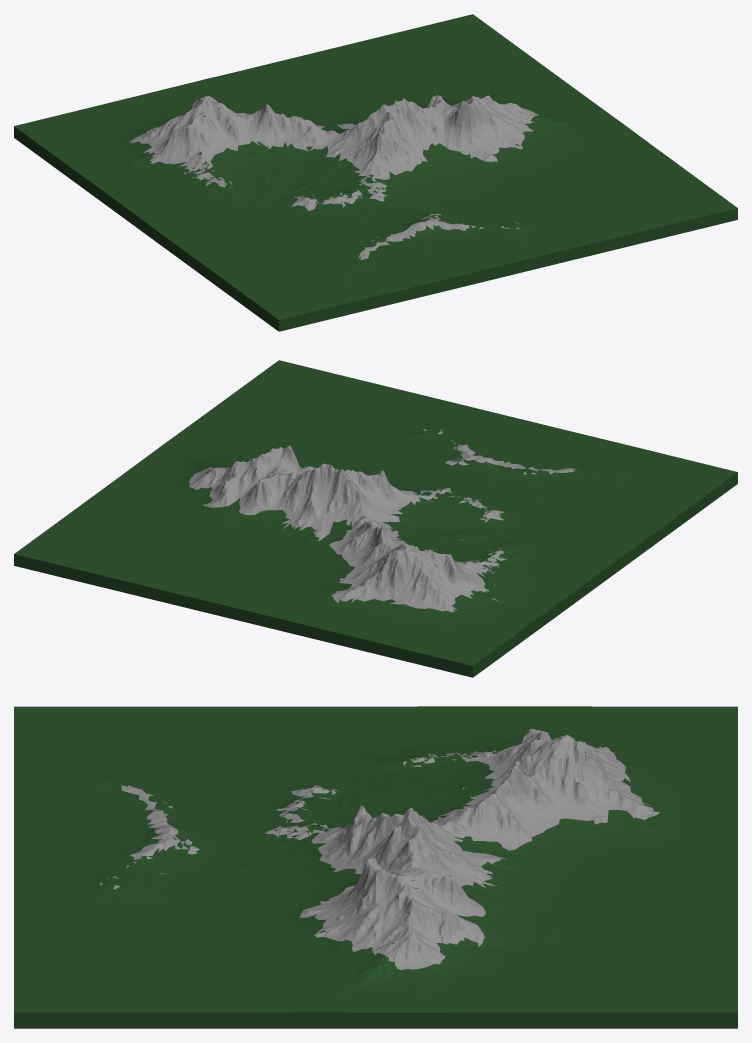
Rendered from Montanha2.fbx.
3 views of the same model, one above another, from view 1: azimuth 30°, elevation 25°; view 2: azimuth 150°, elevation 25°; view 3: azimuth 270°, elevation 25° (orthographic). The views are drawn at different scales.
Visible parts, largest first — view 1: Plane; view 2: Plane; view 3: Plane.
Boxes of the visible parts, x1,y1,x2,y2 form: Plane: (14,14,737,331); Plane: (14,360,737,677); Plane: (14,706,737,1028).
Size of the model in its own units: 962 by 123 by 962.
